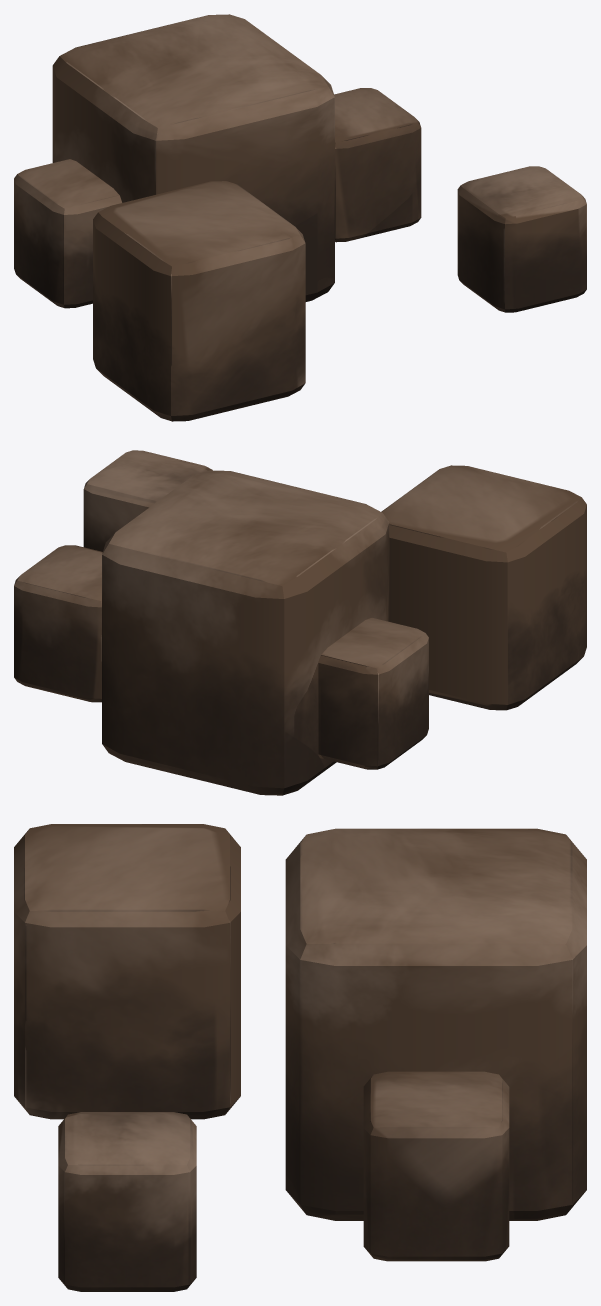
The model's file is rocks 1.fbx.
3 views of the same model, one above another, from view 1: azimuth 30°, elevation 25°; view 2: azimuth 150°, elevation 25°; view 3: azimuth 270°, elevation 25° (orthographic). The views are drawn at different scales.
Parts seen in each view (by area): view 1: Cube.027; view 2: Cube.027; view 3: Cube.027.
Part boxes in pixels (x1=…): Cube.027: x1=14, y1=14, x2=586, y2=421; Cube.027: x1=14, y1=450, x2=586, y2=795; Cube.027: x1=14, y1=824, x2=586, y2=1291.
Size of the model in its own units: 221 by 105 by 188.
Materials: 1 (1 with a texture image).
